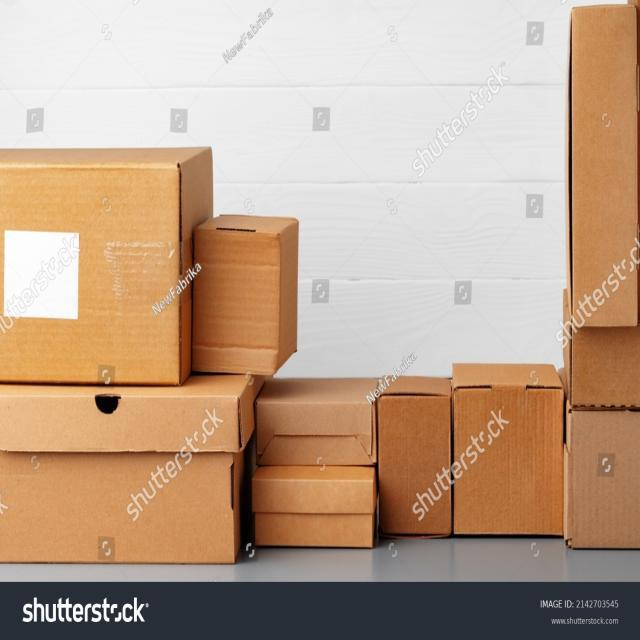BoxFace: (0, 160, 181, 386), (0, 393, 240, 561), (566, 4, 640, 332), (454, 384, 564, 539), (190, 230, 278, 380), (377, 392, 452, 539), (565, 408, 640, 549), (251, 474, 377, 552), (255, 399, 377, 467), (570, 331, 640, 410)
